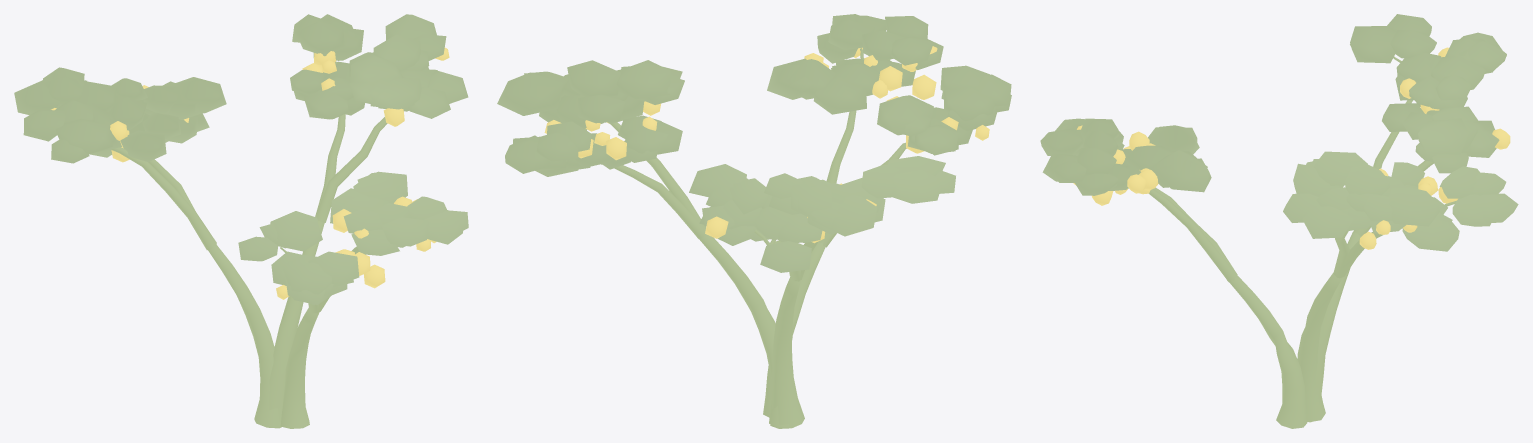
File: Blender_Palo_1.glb
3 renders of one model, left to right at view 1: azimuth 30°, elevation 25°; view 2: azimuth 150°, elevation 25°; view 3: azimuth 270°, elevation 25°, orthographic. The views are drawn at different scales.
Parts seen in each view (by area): view 1: Blender_Palo_1; view 2: Blender_Palo_1; view 3: Blender_Palo_1.
Boxes of the visible parts, x1,y1,x2,y2 form: Blender_Palo_1: (14,14,468,428); Blender_Palo_1: (497,14,1011,428); Blender_Palo_1: (1040,14,1518,428).
Bounding box in the file's own units: 7.86 × 6.03 × 8.
